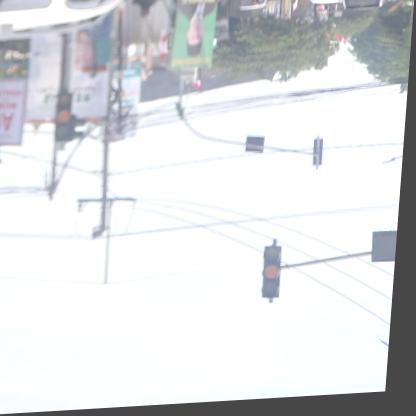yellow: (264, 246, 288, 302), (57, 93, 75, 143)
